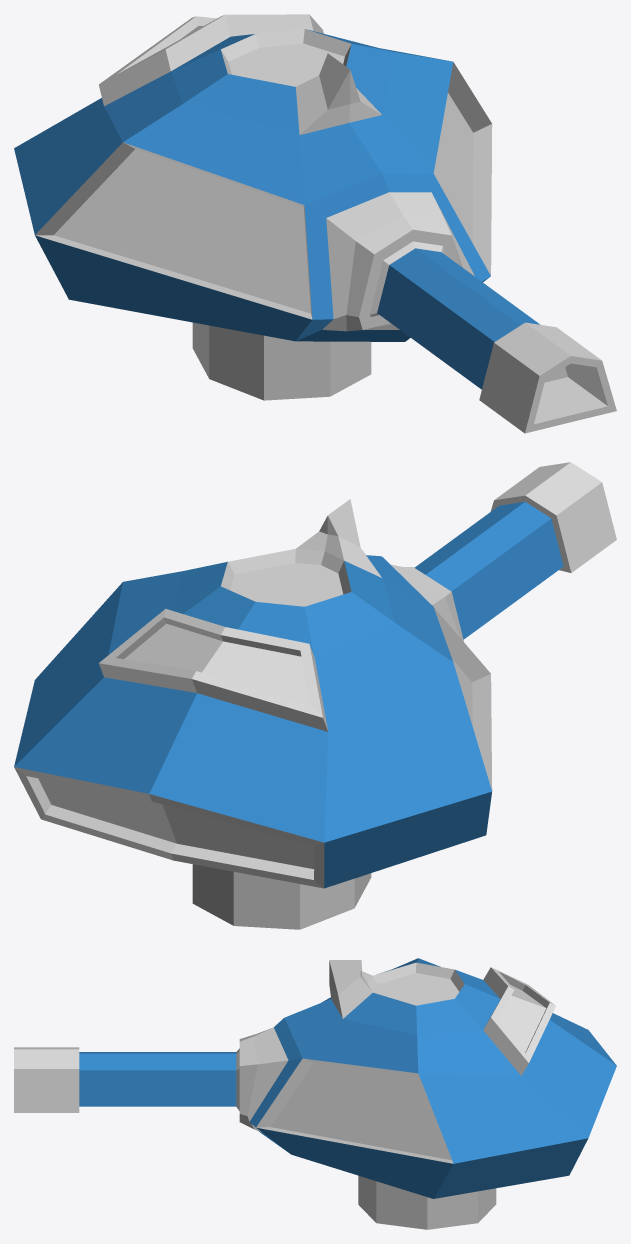
Rendered from Gun1.fbx.
3 renders of one model, top to bottom at view 1: azimuth 30°, elevation 25°; view 2: azimuth 150°, elevation 25°; view 3: azimuth 270°, elevation 25°, orthographic. The views are drawn at different scales.
Parts seen in each view (by area): view 1: Gun1; view 2: Gun1; view 3: Gun1.
Boxes of the visible parts, box(x1,y1,x2,y2) form: Gun1: box(14, 14, 616, 433); Gun1: box(14, 462, 616, 929); Gun1: box(14, 958, 616, 1229).
Size of the model in its own units: 141 by 101 by 225.
